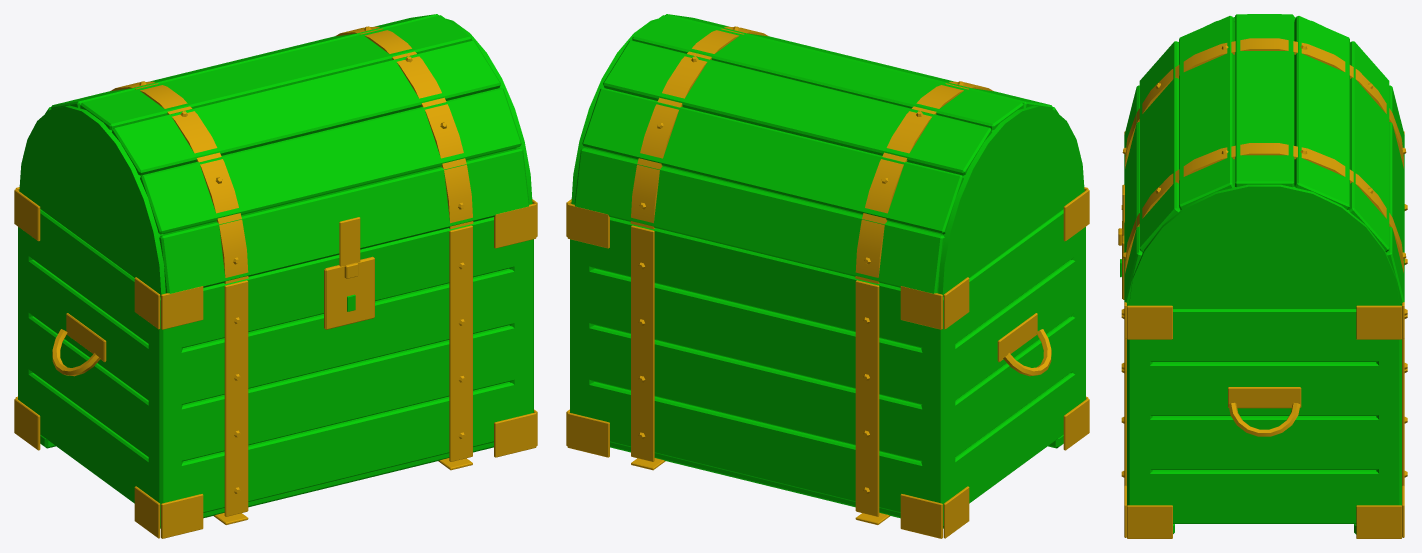
The model's file is chest.glb.
3 renders of one model, left to right at view 1: azimuth 30°, elevation 25°; view 2: azimuth 150°, elevation 25°; view 3: azimuth 270°, elevation 25°, orthographic. The views are drawn at different scales.
Parts seen in each view (by area): view 1: ChestBody, ChestLid; view 2: ChestBody, ChestLid; view 3: ChestLid, ChestBody.
Boxes of the visible parts, x1=… form: ChestBody: x1=14, y1=187, x2=537, y2=538; ChestLid: x1=19, y1=14, x2=532, y2=296; ChestBody: x1=566, y1=187, x2=1089, y2=538; ChestLid: x1=571, y1=14, x2=1084, y2=296; ChestLid: x1=1118, y1=14, x2=1406, y2=308; ChestBody: x1=1120, y1=131, x2=1407, y2=538.
Size of the model in its own units: 1.04 by 0.8583 by 0.6306.
